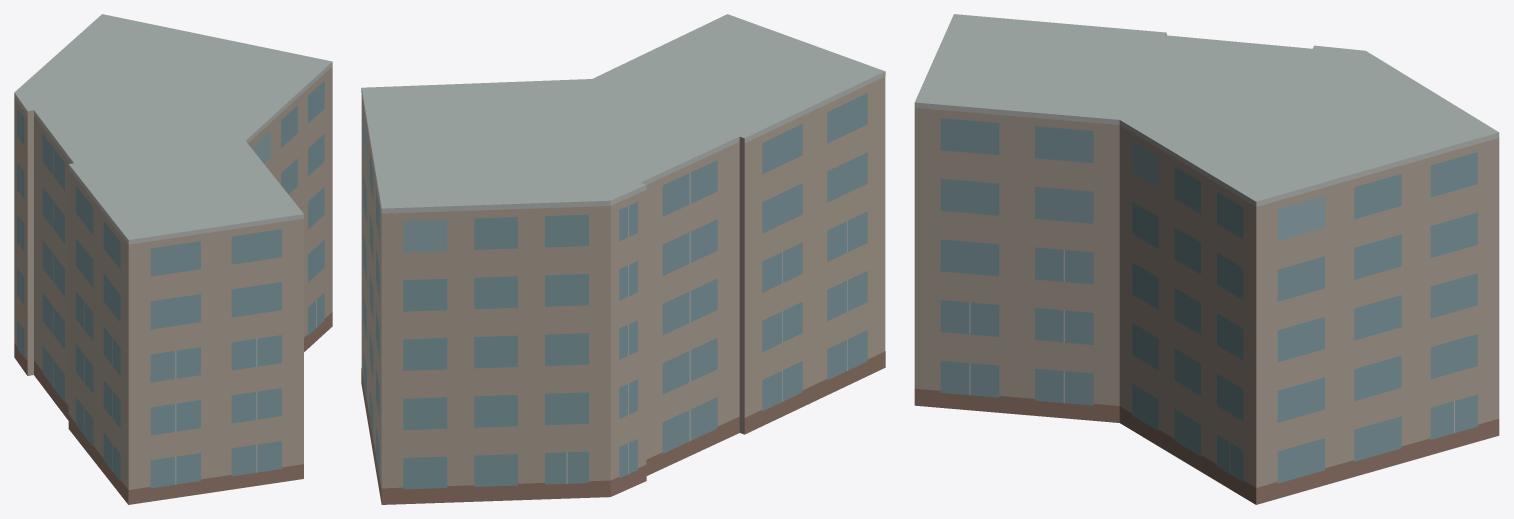
File: survey-upis-32674737.glb
The picture shows the model from 3 angles, left to right: view 1: azimuth 30°, elevation 25°; view 2: azimuth 150°, elevation 25°; view 3: azimuth 270°, elevation 25°; orthographic projection. The views are drawn at different scales.
Visible parts, largest first — view 1: survey-upis-32674737.tmp; view 2: survey-upis-32674737.tmp; view 3: survey-upis-32674737.tmp.
Part boxes in pixels (x1,y1,x2,y2): survey-upis-32674737.tmp: (14,14,332,504); survey-upis-32674737.tmp: (361,14,885,504); survey-upis-32674737.tmp: (914,14,1499,504).
Size of the model in its own units: 18.68 by 14.05 by 24.58.
